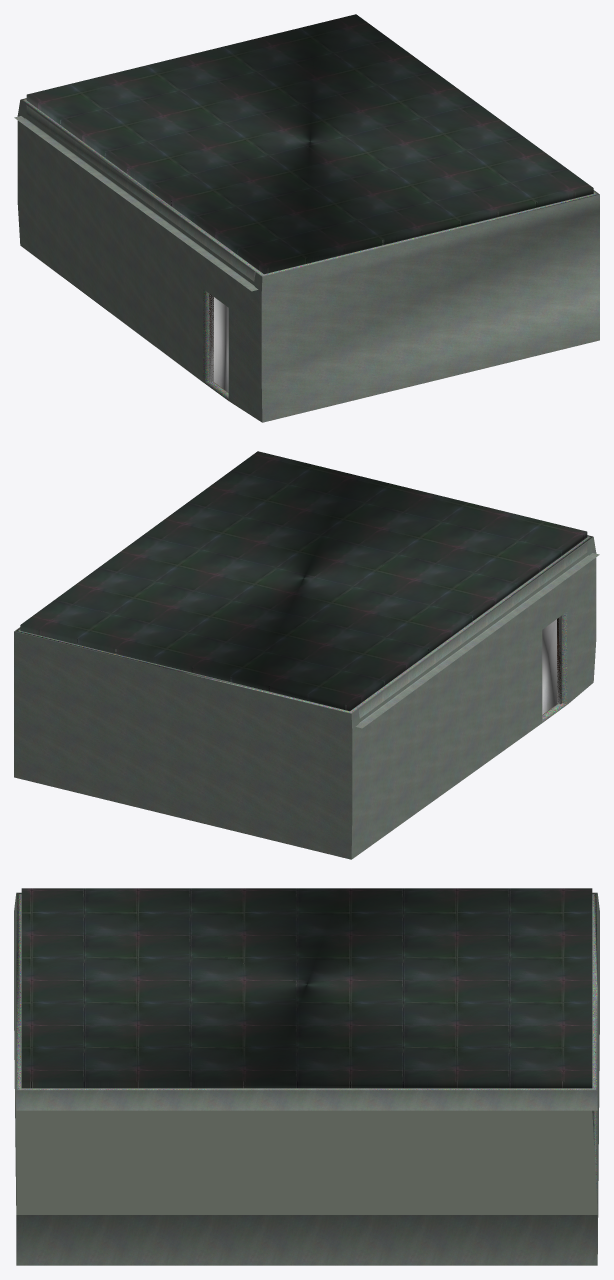
File: ClassRoom 1 (1).fbx
3 renders of one model, top to bottom at view 1: azimuth 30°, elevation 25°; view 2: azimuth 150°, elevation 25°; view 3: azimuth 270°, elevation 25°, orthographic. The views are drawn at different scales.
Parts seen in each view (by area): view 1: wall1, ceilling, wall.004, Door.001|Door_L_door.blend|Dupli|; view 2: wall1, ceilling, wall.004, Door.001|Door_L_door.blend|Dupli|; view 3: ceilling, wall1.
Boxes of the visible parts, bbox=[...] form: wall1: bbox=[17, 98, 599, 422]; ceilling: bbox=[26, 14, 593, 273]; wall.004: bbox=[14, 105, 258, 291]; Door.001|Door_L_door.blend|Dupli|: bbox=[209, 294, 228, 392]; wall1: bbox=[14, 535, 596, 859]; ceilling: bbox=[20, 451, 587, 710]; wall.004: bbox=[355, 542, 599, 728]; Door.001|Door_L_door.blend|Dupli|: bbox=[542, 616, 561, 714]; ceilling: bbox=[21, 888, 592, 1088]; wall1: bbox=[14, 892, 599, 1265].
Bounding box in the file's own units: 844 × 355 × 1031.
